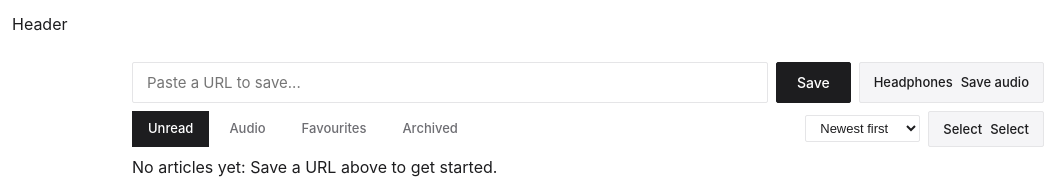
Test: Library › disables Save button while saving
Type "https://example.com" into the field with placeholder "Paste a URL to save..." at [450, 82], box [132,62,768,103]
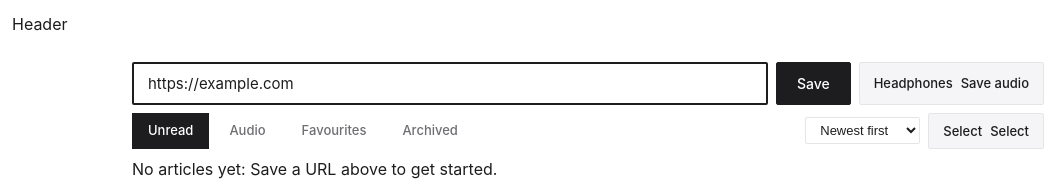
Click the button "Save" at [813, 83], box [776,62,851,105]
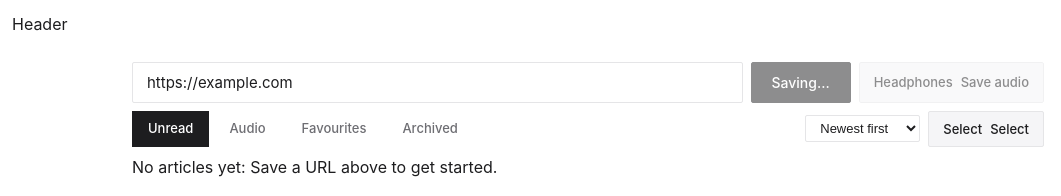
Expected: the button "Saving..." is disabled, [750,62,851,103]
